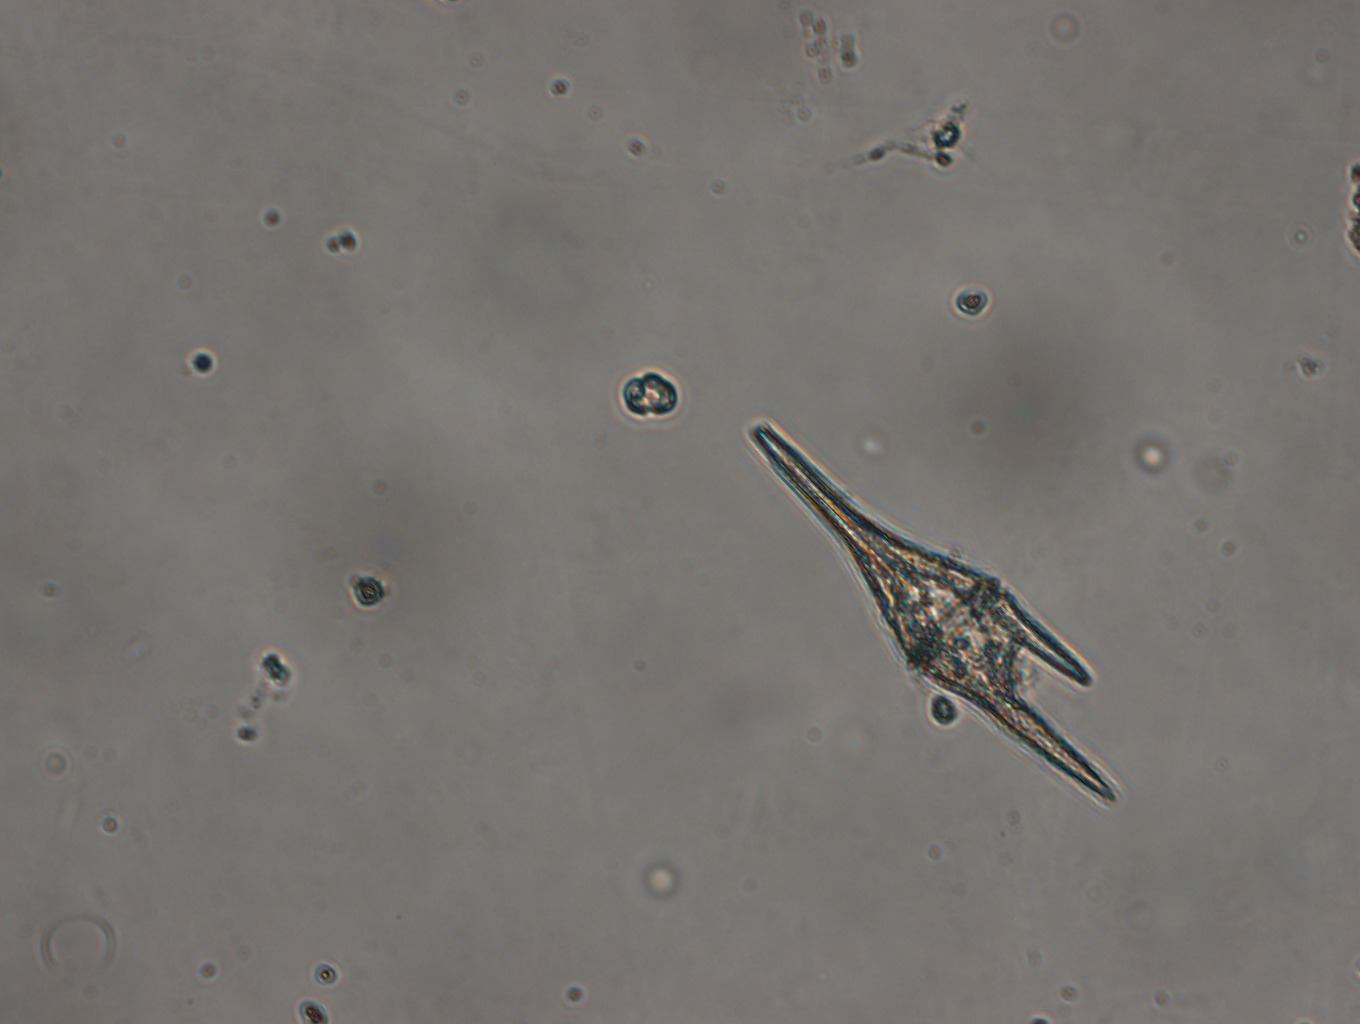ceratium furca: (738, 413, 1119, 805)
